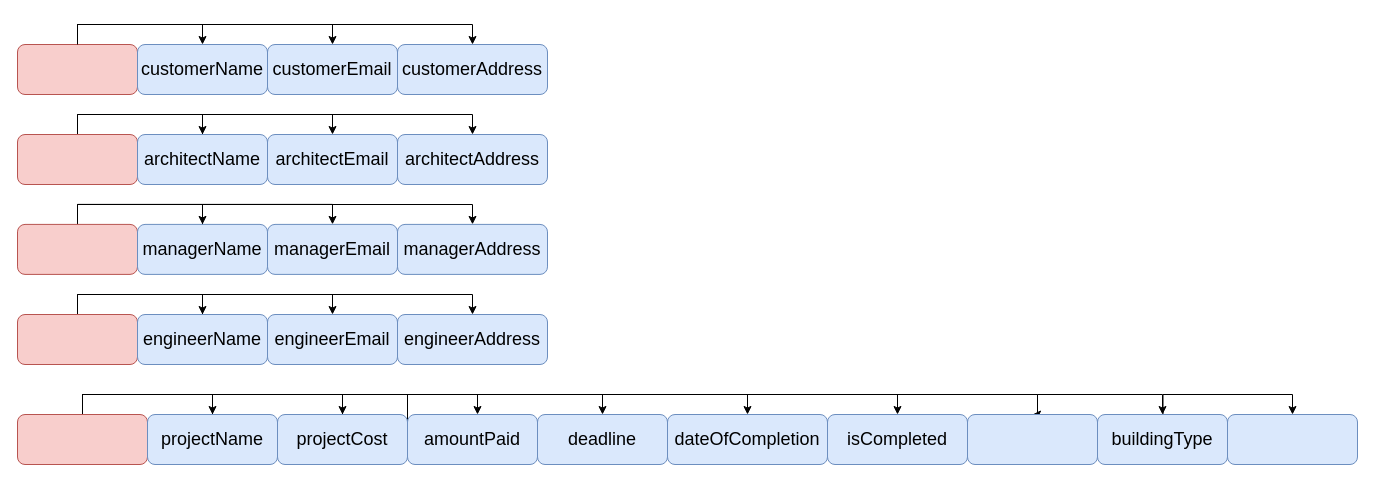
Image size: 1375x482. Some labels were removed from this diagram. The shapes that lost their labels are listed below. From the top down, each one's box as (x1, y1, x2, y2) in pixels, then its label:
(16, 44, 138, 94): customerID
(16, 134, 138, 184): architectID
(16, 223, 138, 274): managerID
(16, 314, 138, 364): engineerID
(16, 414, 148, 464): projectNumber
(966, 414, 1098, 464): erfNumber
(1226, 414, 1358, 464): projectAddress
